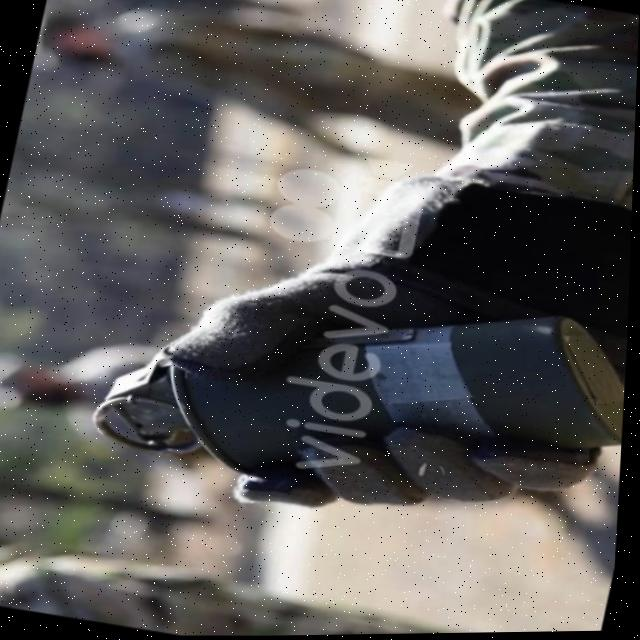grenade: (79, 239, 633, 560)
